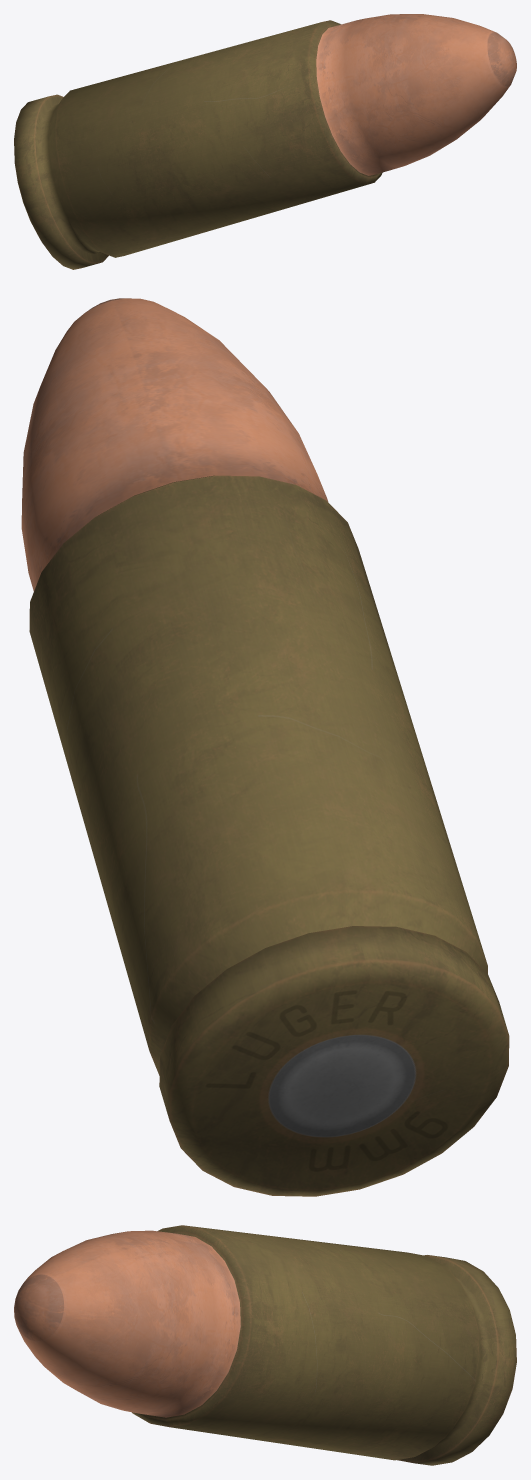
Rendered from 9mm-luger-ammo.glb.
The picture shows the model from 3 angles, top to bottom: view 1: azimuth 30°, elevation 25°; view 2: azimuth 150°, elevation 25°; view 3: azimuth 270°, elevation 25°; orthographic projection. The views are drawn at different scales.
Parts seen in each view (by area): view 1: Object_2; view 2: Object_2; view 3: Object_2.
Boxes of the visible parts, x1,y1,x2,y2 form: Object_2: (14, 14, 516, 269); Object_2: (21, 298, 509, 1196); Object_2: (14, 1225, 516, 1465).
Bounding box in the file's own units: 0.0233 × 0.0177 × 0.0239.
1 material, 1 textured.
